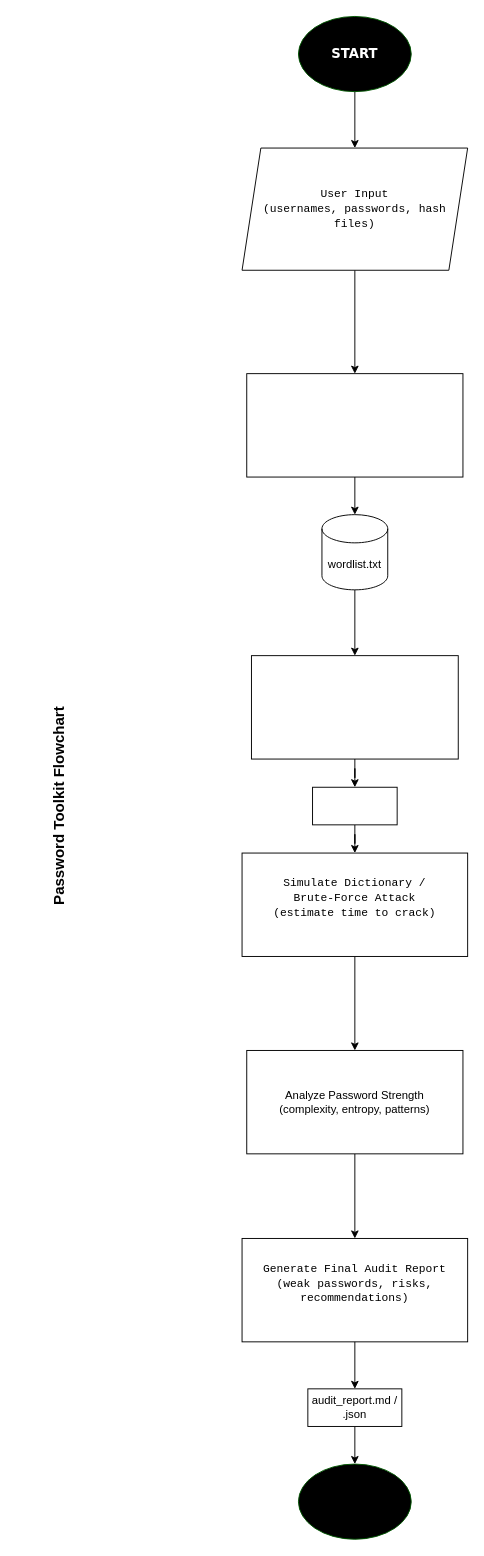
The diagram is 484 pixels wide and 1556 high, and some of its shapes have lost their labels. Here are the shapes that lost their labels. From the top down, the centre of each, then its label:
At pixel 354 425: "Generate Dictionary (patterns, mutations, leet‑speak)".
At pixel 354 707: "Extract Password Hashes (Linux /etc/shadow, Windows NTLM)".
At pixel 354 805: "hashes.json".
At pixel 354 1501: "END".
